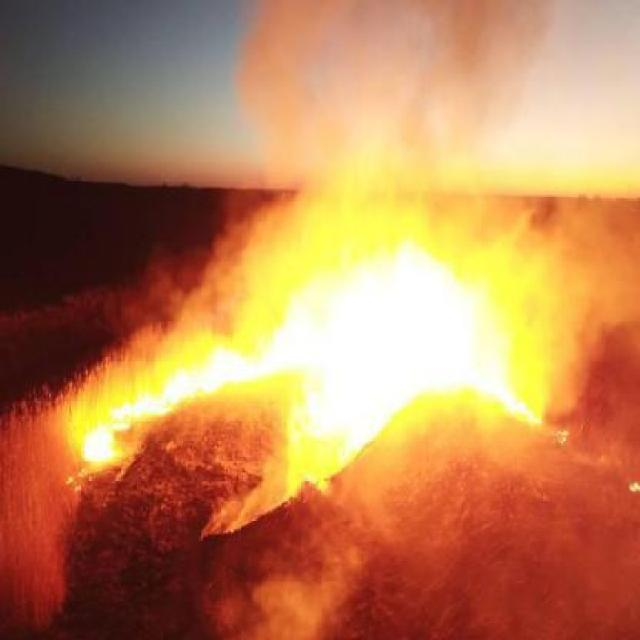Fire: (74, 243, 536, 474)
